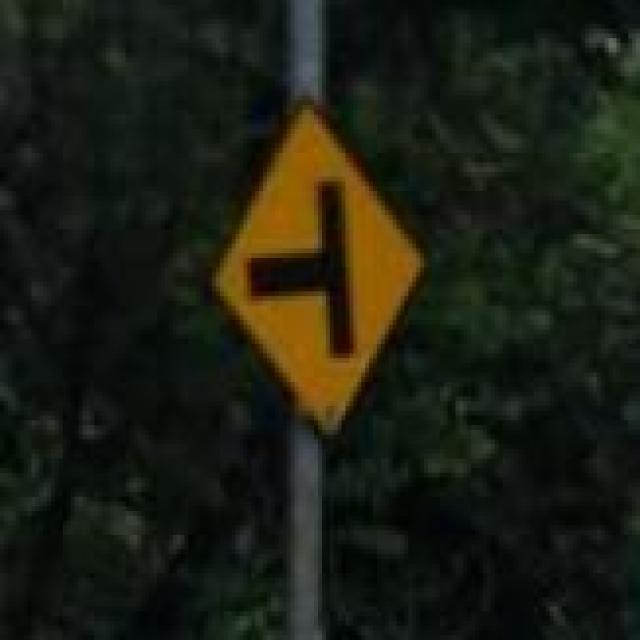traffic sign: (212, 115, 424, 426)
